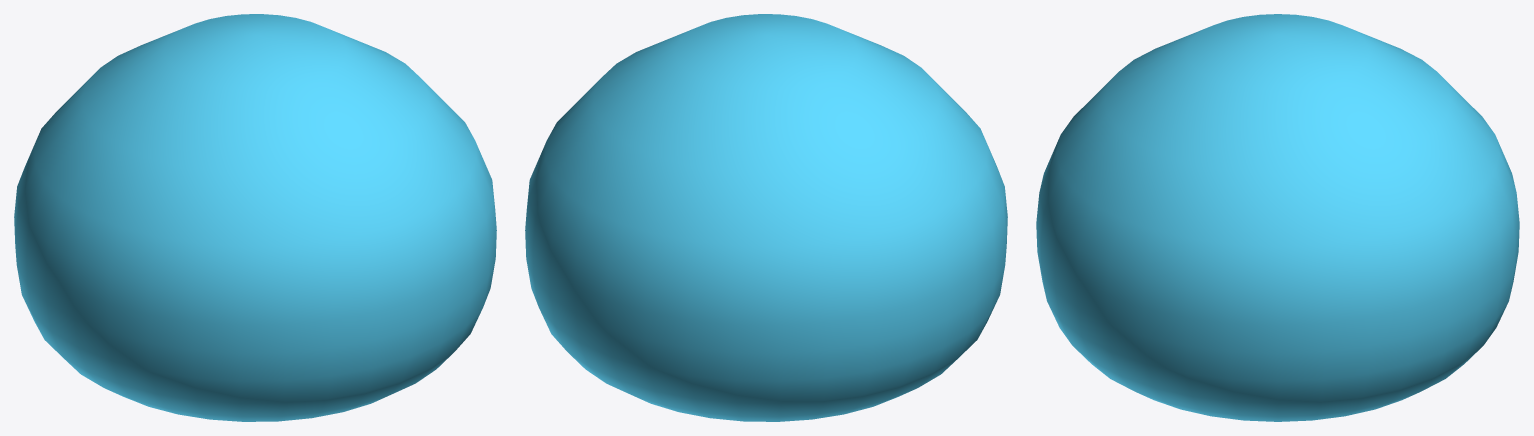
The model's file is Slime.fbx.
3 views of the same model, side by side, from view 1: azimuth 30°, elevation 25°; view 2: azimuth 150°, elevation 25°; view 3: azimuth 270°, elevation 25° (orthographic).
Parts seen in each view (by area): view 1: Inside.001; view 2: Inside.001; view 3: Inside.001.
Boxes of the visible parts, x1,y1,x2,y2 form: Inside.001: (14, 14, 496, 421); Inside.001: (525, 14, 1007, 421); Inside.001: (1036, 14, 1519, 421).
Bounding box in the file's own units: 488 × 376 × 488.
